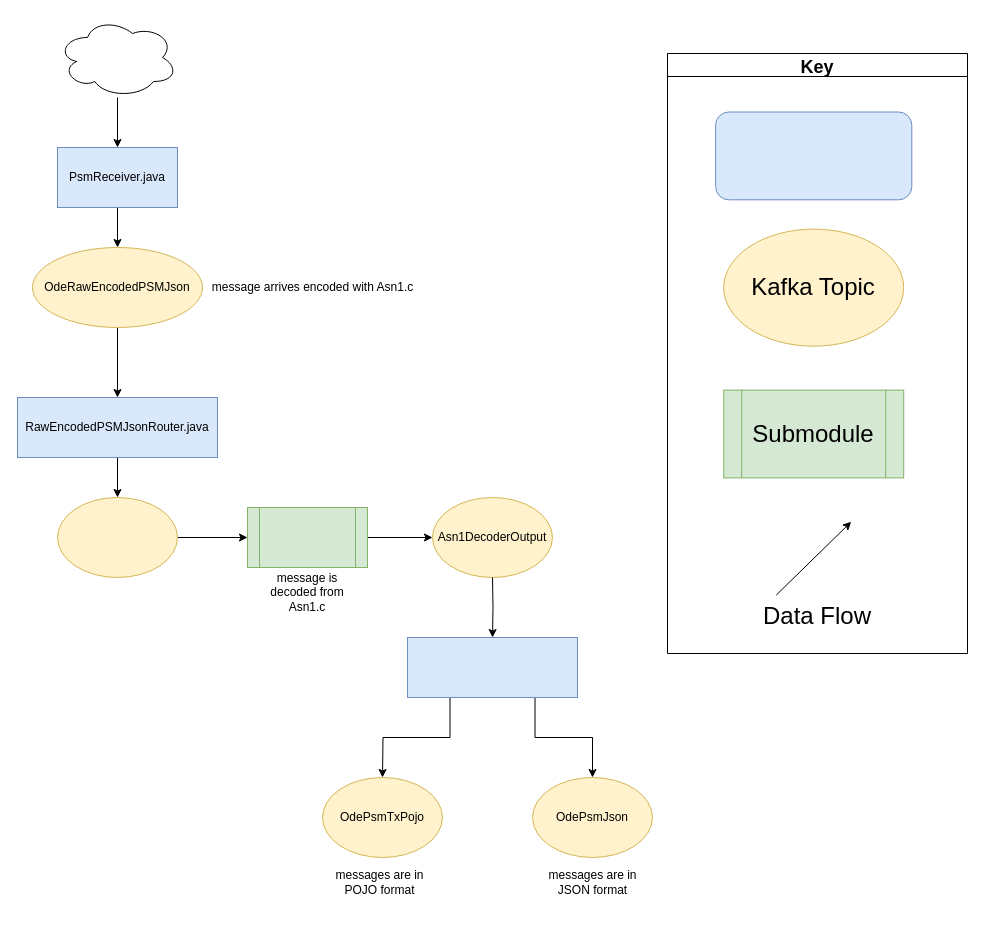
This 985x925 diagram has some shape labels left out. Each missing label, with the centre of its shape:
"ACM (ADM)" belongs at (x=307, y=537).
"Asn1DecodedDataRouter.java" belongs at (x=492, y=667).
"Asn1DecoderInput" belongs at (x=117, y=537).
"ODE Java Class" belongs at (x=813, y=155).
